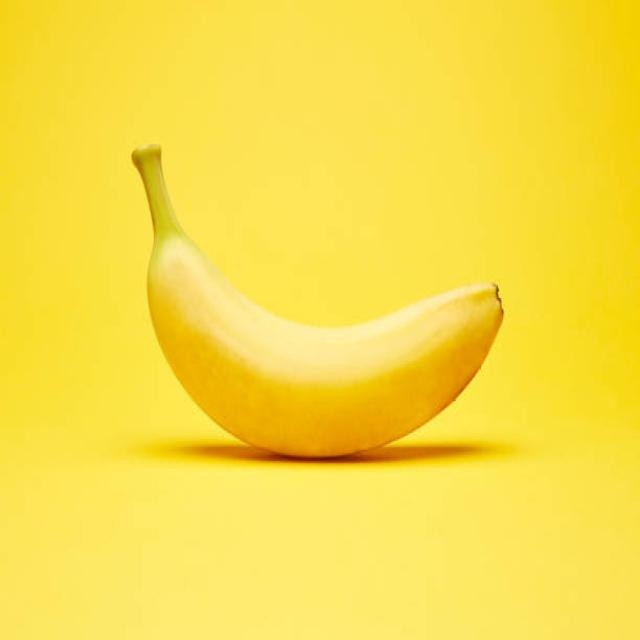agrume: (131, 147, 505, 464)
